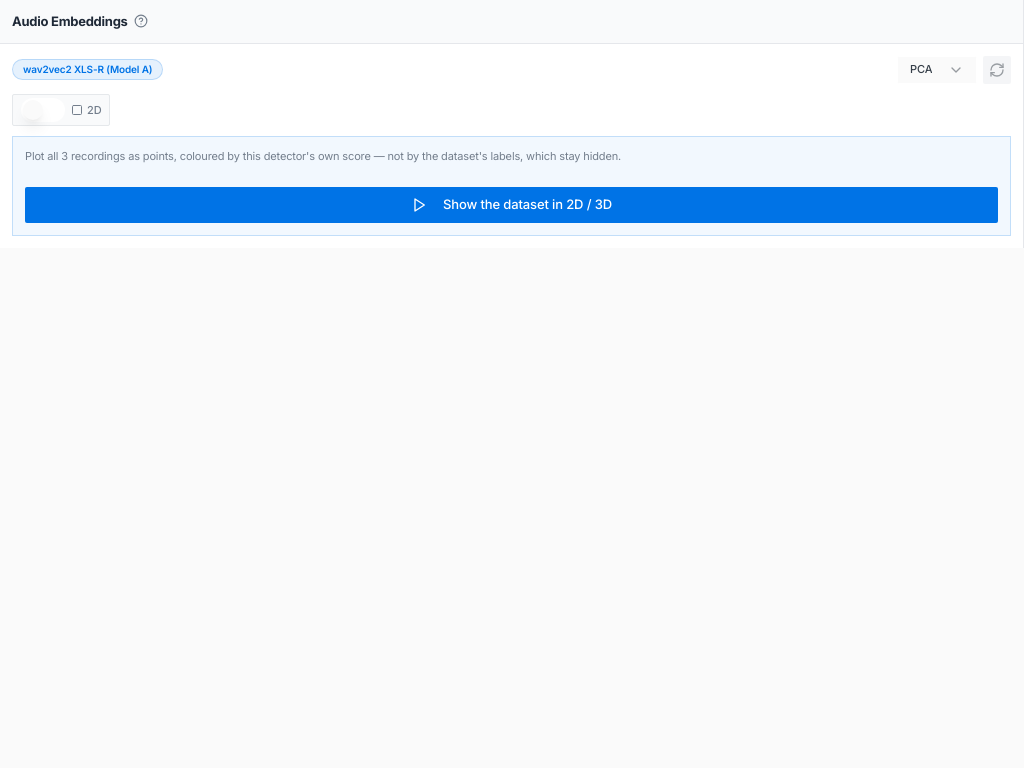
Scenario: DeepfakeEmbeddingPanel › reports the vector width and the reduction it used
Click the button "Show the dataset in 2D / 3D".
click(512, 205)  # box 25,187 -> 998,223
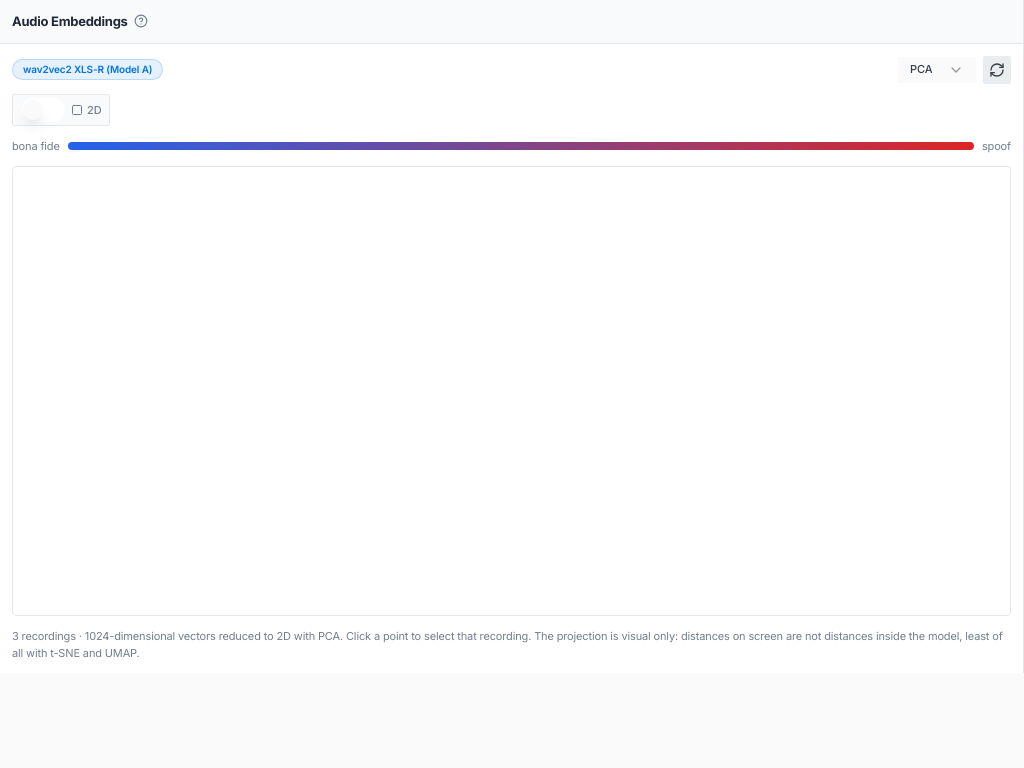
Expected: the text "1024-dimensional vectors reduced to 2D with PCA" is shown, 12,628 -> 1011,661
Expected: the text "distances on screen are not distances inside the model" is shown, 12,629 -> 1003,660
